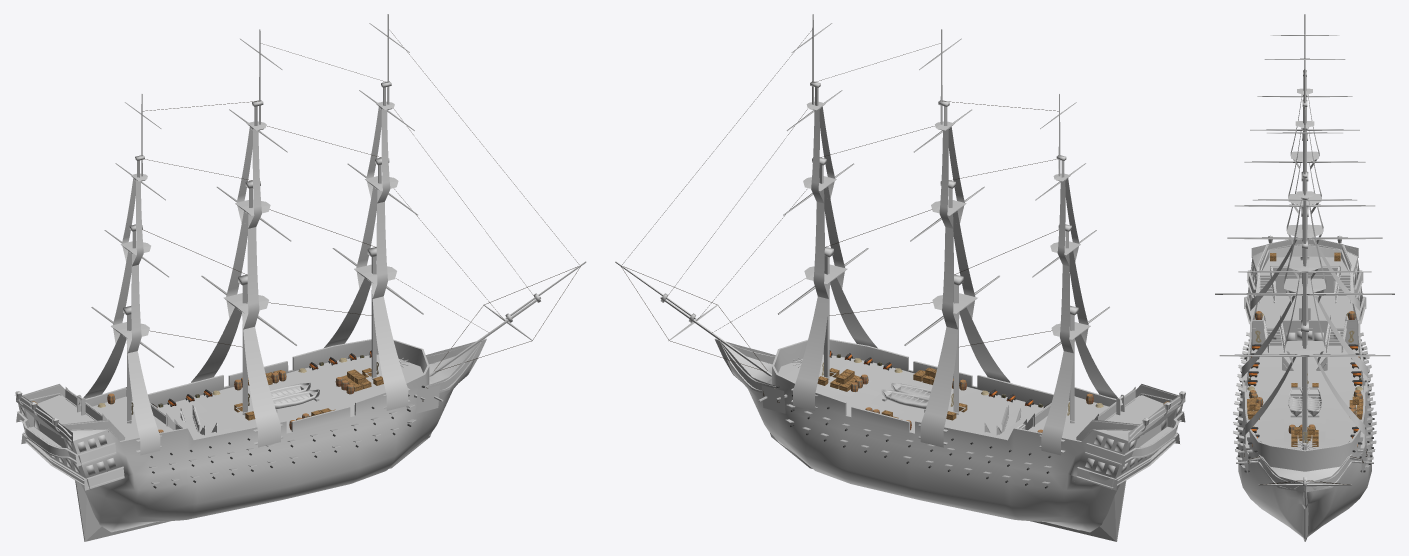
File: LineWarship80-cannons_LOD2.FBX
3 renders of one model, left to right at view 1: azimuth 30°, elevation 25°; view 2: azimuth 150°, elevation 25°; view 3: azimuth 270°, elevation 25°, orthographic. The views are drawn at different scales.
Parts seen in each view (by area): view 1: LineWarship80-cannonCorps_LD2_001, VantsVeryLow006, Line warship 80-cannon_MastsLD2_001, DetailLD2_001, LineWarship80-cannonComponents_LD2_001, Rope1LD0_004; view 2: LineWarship80-cannonCorps_LD2_001, VantsVeryLow006, Line warship 80-cannon_MastsLD2_001, DetailLD2_001, LineWarship80-cannonComponents_LD2_001, Rope1LD0_004; view 3: LineWarship80-cannonCorps_LD2_001, Line warship 80-cannon_MastsLD2_001, LineWarship80-cannonComponents_LD2_001, DetailLD2_001, VantsVeryLow006, WindowsLD2_001, AnchorLow_004.
Boxes of the visible parts, x1=… form: LineWarship80-cannonCorps_LD2_001: x1=18, y1=338, x2=486, y2=541; VantsVeryLow006: x1=83, y1=106, x2=408, y2=455; Line warship 80-cannon_MastsLD2_001: x1=85, y1=14, x2=586, y2=453; DetailLD2_001: x1=16, y1=341, x2=481, y2=490; LineWarship80-cannonComponents_LD2_001: x1=15, y1=342, x2=481, y2=487; Rope1LD0_004: x1=142, y1=32, x2=580, y2=371; LineWarship80-cannonCorps_LD2_001: x1=714, y1=338, x2=1183, y2=541; VantsVeryLow006: x1=793, y1=107, x2=1117, y2=455; Line warship 80-cannon_MastsLD2_001: x1=615, y1=14, x2=1115, y2=453; DetailLD2_001: x1=720, y1=341, x2=1185, y2=490; LineWarship80-cannonComponents_LD2_001: x1=720, y1=342, x2=1185, y2=487; Rope1LD0_004: x1=621, y1=30, x2=1058, y2=371; LineWarship80-cannonCorps_LD2_001: x1=1233, y1=245, x2=1376, y2=541; Line warship 80-cannon_MastsLD2_001: x1=1215, y1=14, x2=1394, y2=486; LineWarship80-cannonComponents_LD2_001: x1=1244, y1=239, x2=1365, y2=488; DetailLD2_001: x1=1244, y1=239, x2=1366, y2=492; VantsVeryLow006: x1=1241, y1=94, x2=1368, y2=434; WindowsLD2_001: x1=1248, y1=262, x2=1362, y2=339; AnchorLow_004: x1=1243, y1=442, x2=1366, y2=474.
Size of the model in its own units: 2751 by 2231 by 815.
